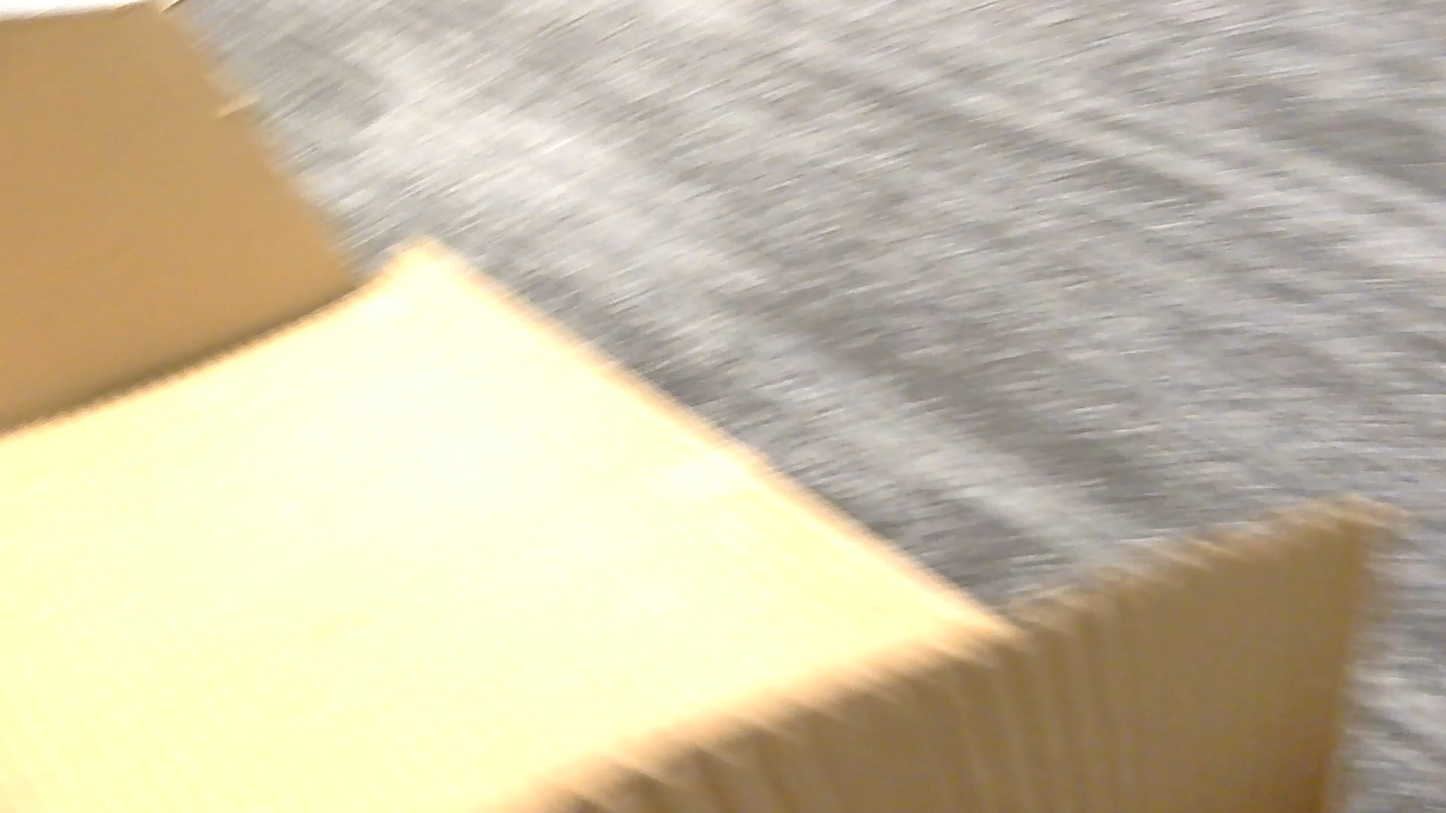Ramp: (0, 4, 1380, 812)
